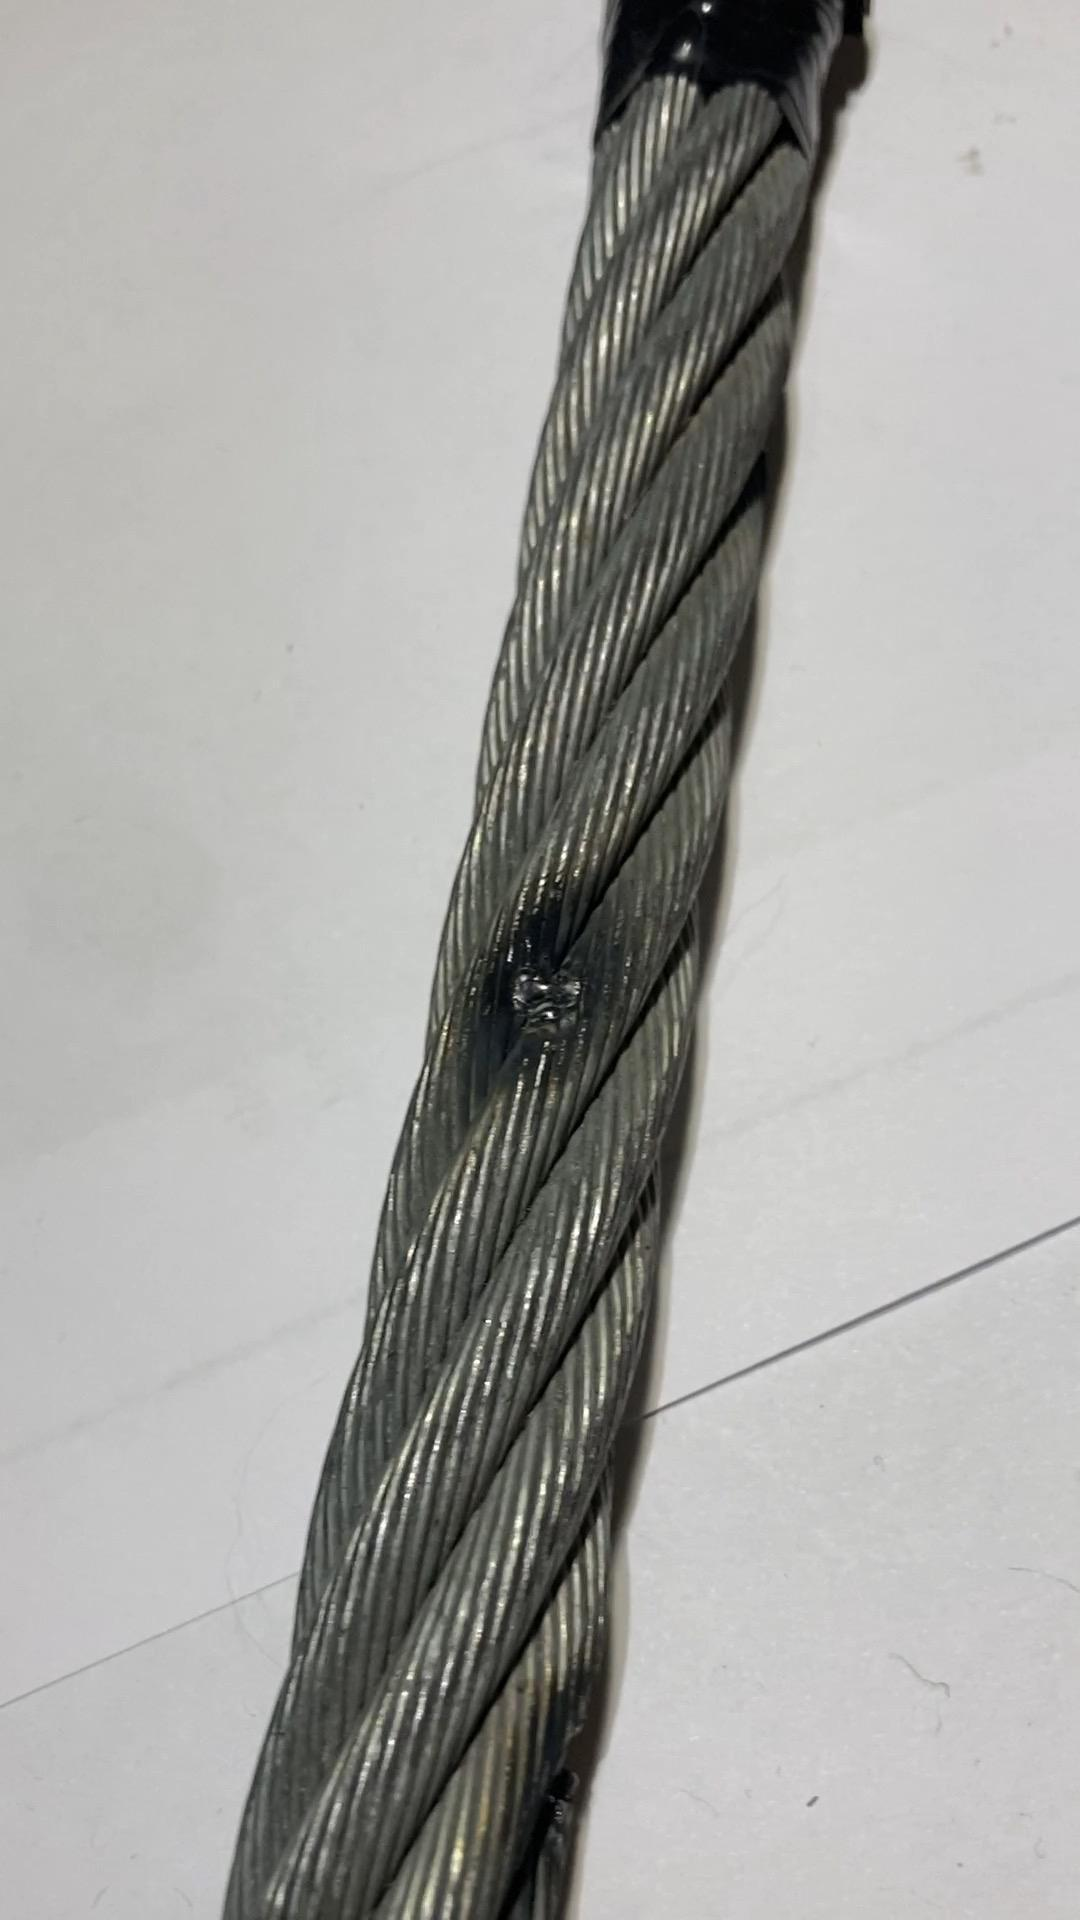thunderbolt: (487, 901, 636, 1069)
